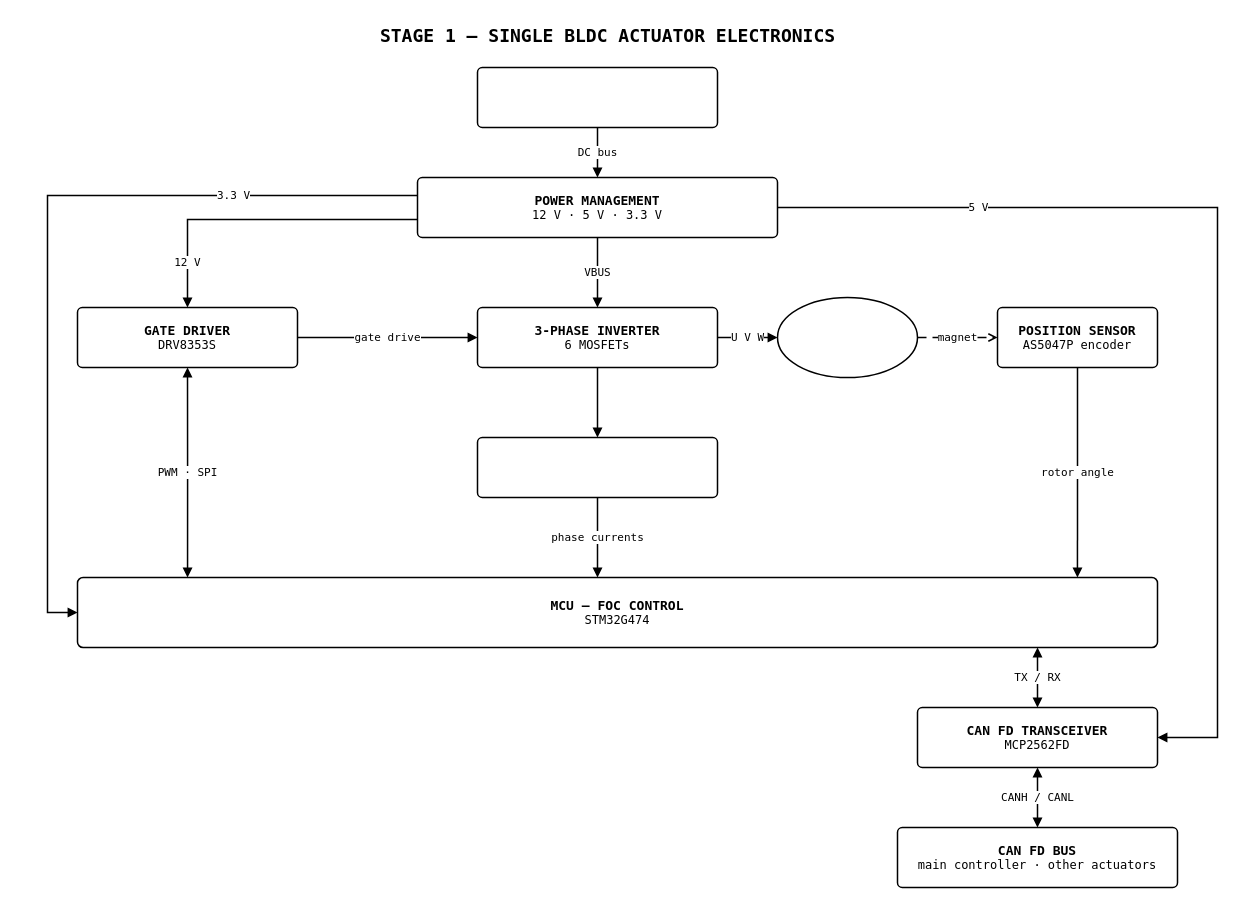
The diagram is 1243 pixels wide and 905 high, and some of its shapes have lost their labels. The centre of each missing label's shape, as x and y in pixels:
BLDC MOTOR: pixel 847 337
CURRENT SENSING 3 low-side shunts: pixel 597 467
DC POWER INPUT up to 72 V: pixel 597 97
